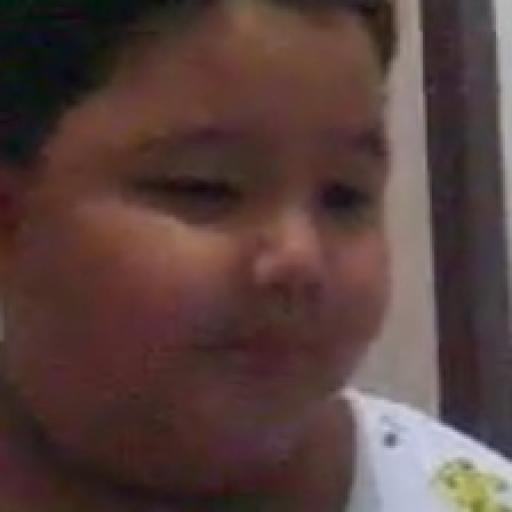Autism: (0, 0, 457, 446)
